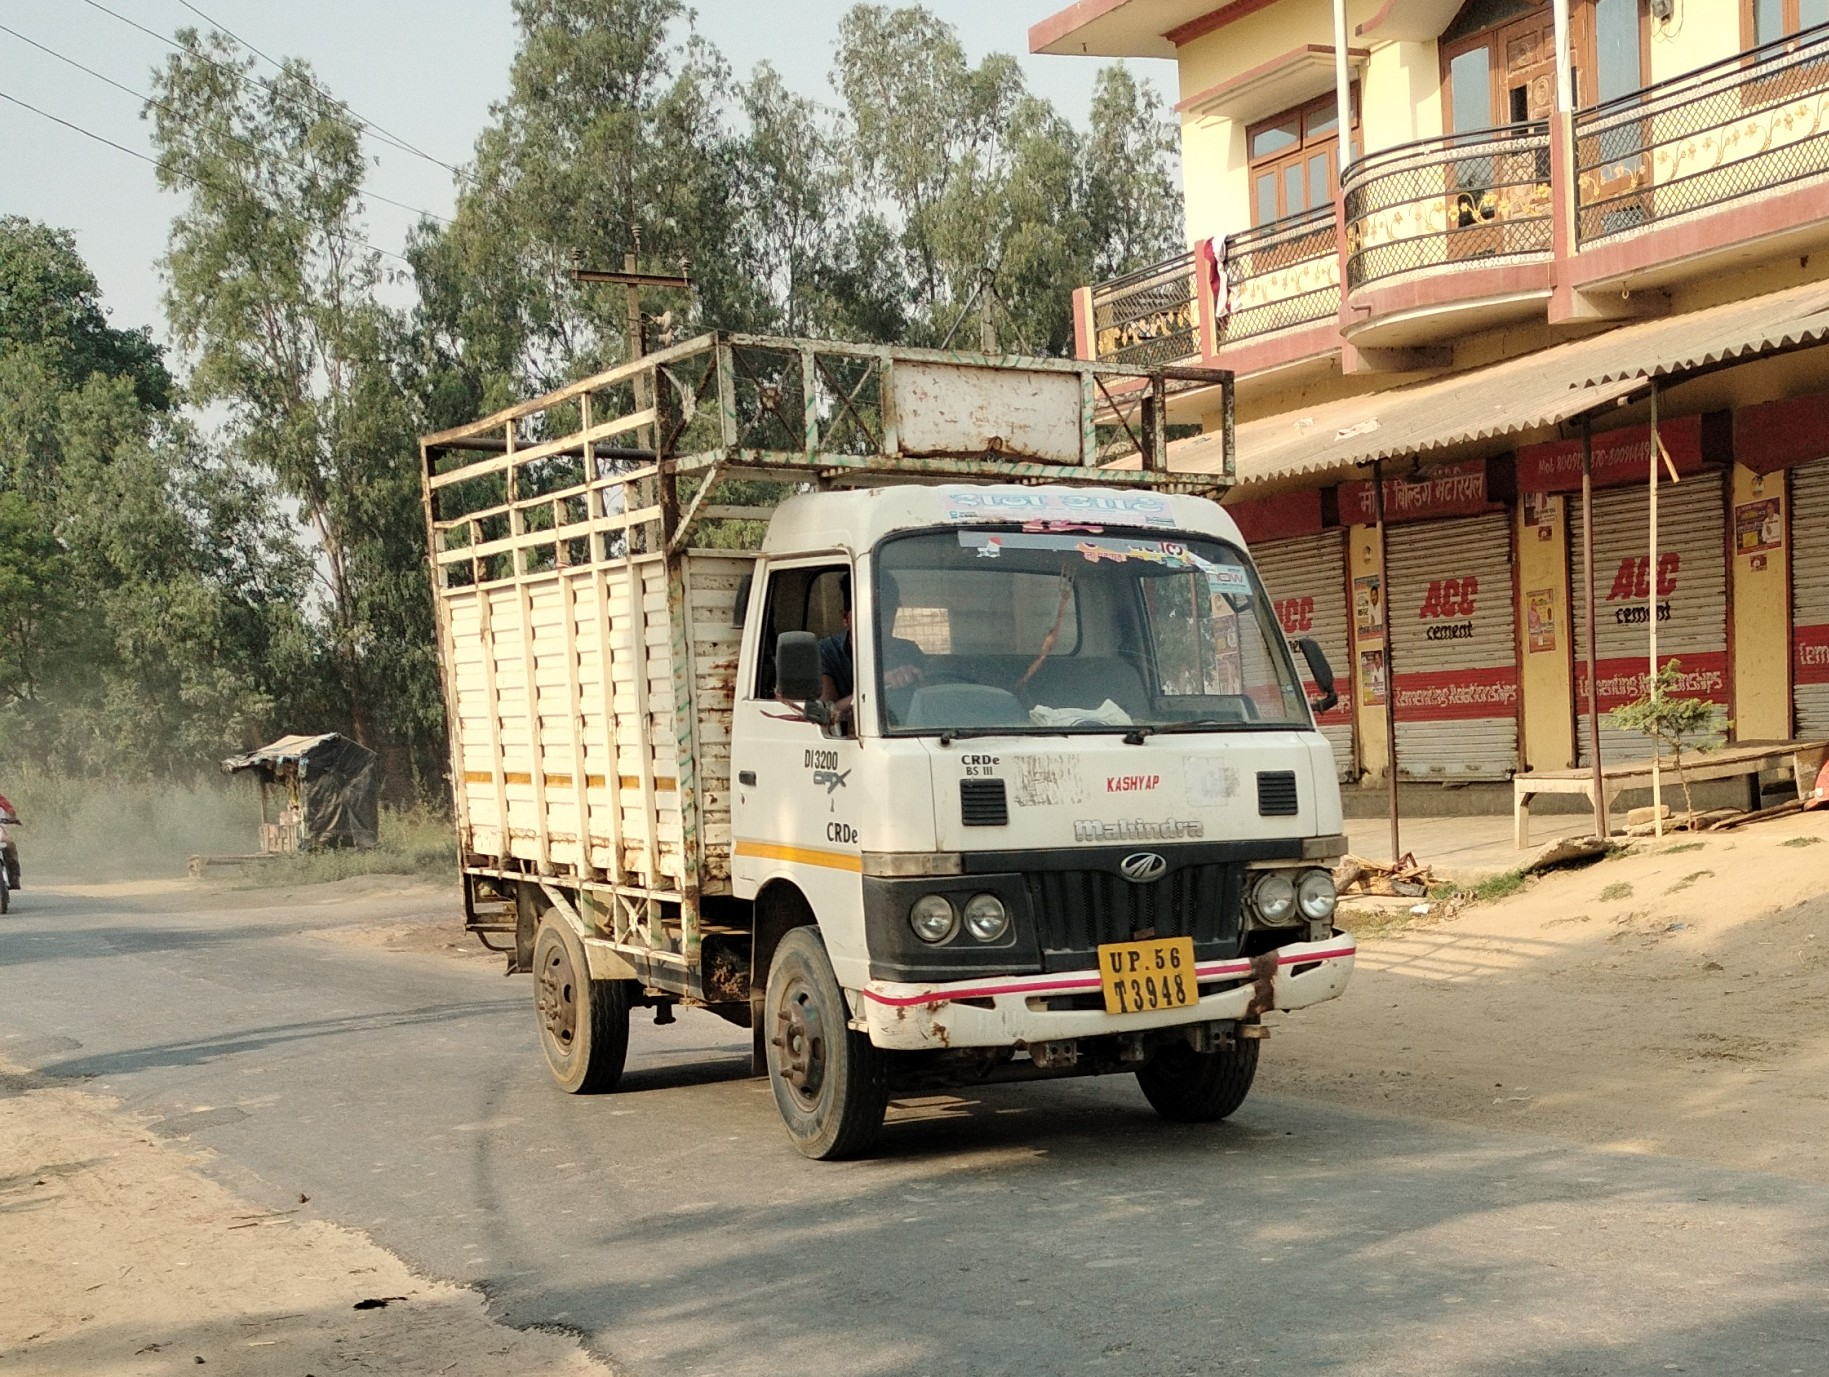lorry: (371, 282, 1403, 1144)
plate: (1079, 928, 1245, 1041)
